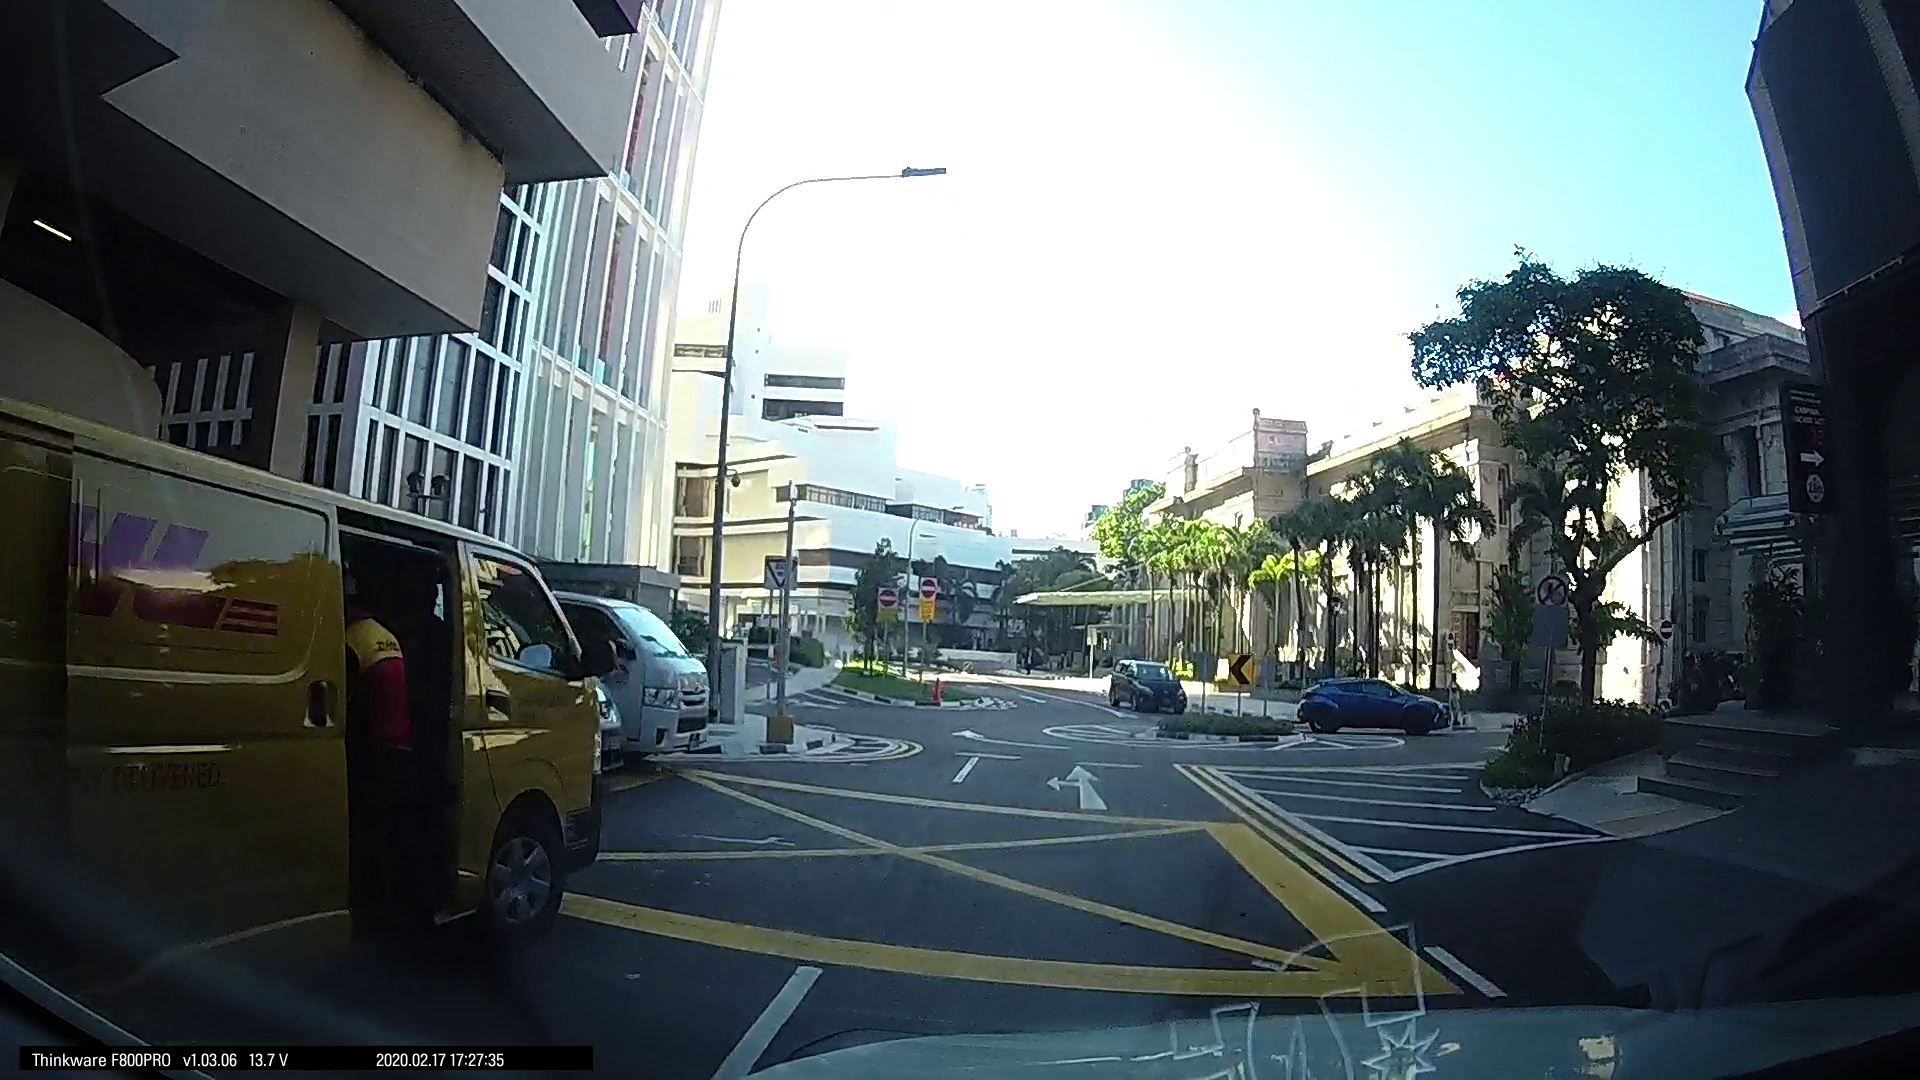Light Vehicle: (24, 438, 642, 985), (568, 580, 713, 770), (1290, 669, 1448, 736), (1104, 651, 1187, 712)
